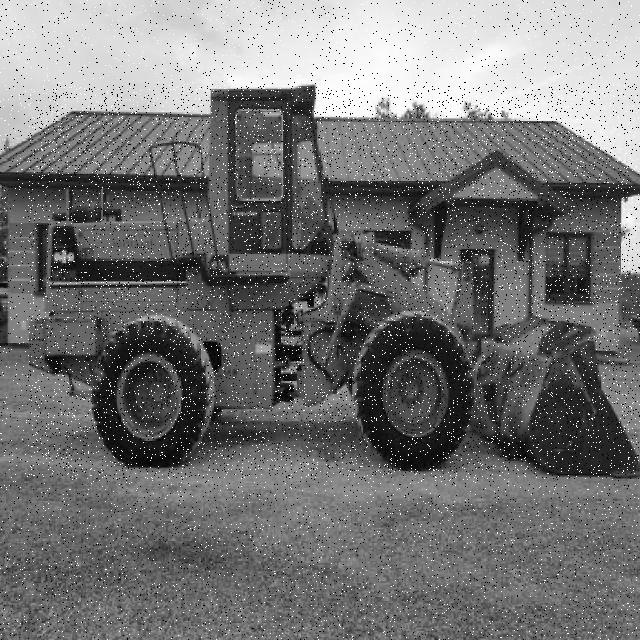Construction Equipment: (28, 86, 640, 479)
